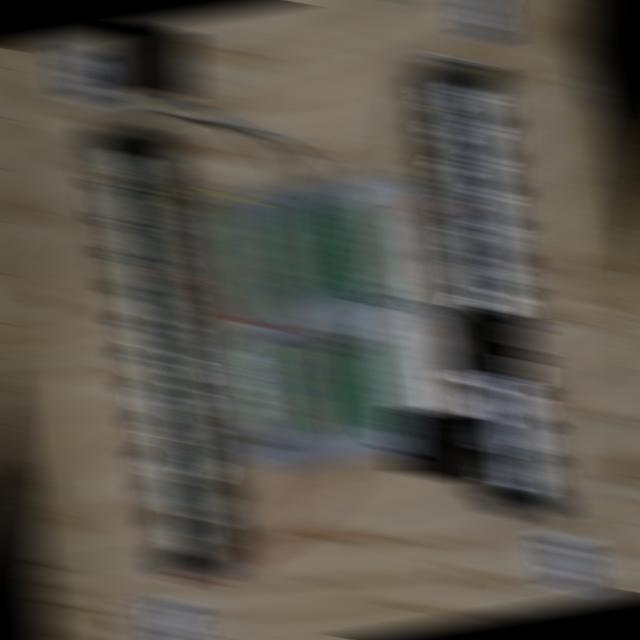Flathead_Block: (85, 122, 234, 585)
Phillips_Block: (423, 58, 569, 523)
Terminal_1: (243, 334, 295, 436), (225, 213, 275, 316)
Terminal_2: (310, 204, 358, 302), (330, 342, 379, 438), (282, 208, 330, 305), (338, 202, 386, 299), (304, 345, 352, 441)
